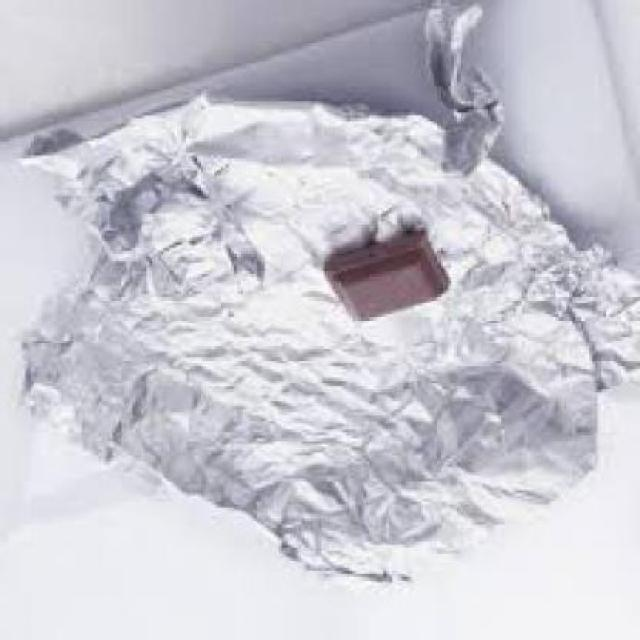BIODEGRADABLE: (324, 231, 454, 326)
METAL: (3, 3, 639, 595)
